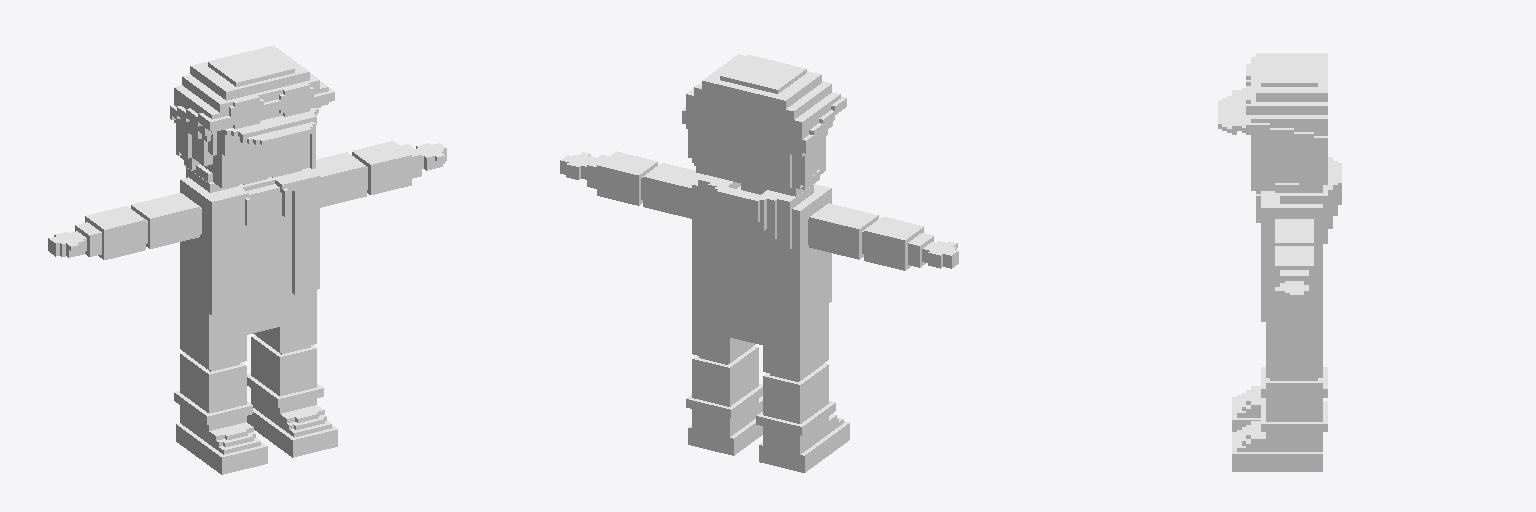
File: NPAH.obj
3 views of the same model, side by side, from view 1: azimuth 30°, elevation 25°; view 2: azimuth 150°, elevation 25°; view 3: azimuth 270°, elevation 25° (orthographic).
Parts seen in each view (by area): view 1: NPAH; view 2: NPAH; view 3: NPAH.
Boxes of the visible parts, <box> form: NPAH: <box>48,45,446,474</box>; NPAH: <box>560,54,958,472</box>; NPAH: <box>1218,53,1341,471</box>.
Bounding box in the file's own units: 94 × 86 × 26.